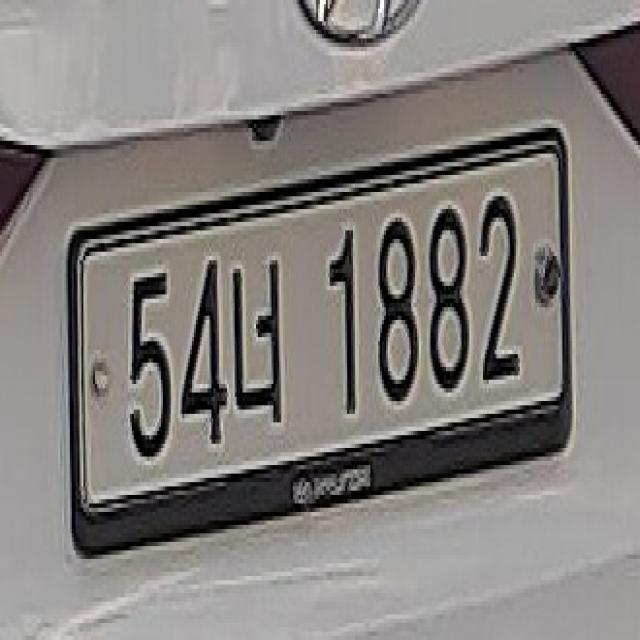1: (314, 205, 374, 444)
2: (481, 175, 522, 405)
4: (180, 243, 242, 478)
5: (122, 243, 184, 457)
8: (427, 184, 475, 422), (372, 200, 423, 422)
license_plate: (64, 115, 578, 572)
neo: (225, 243, 297, 435)
